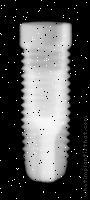Nobel Biocare: (16, 22, 72, 184)
